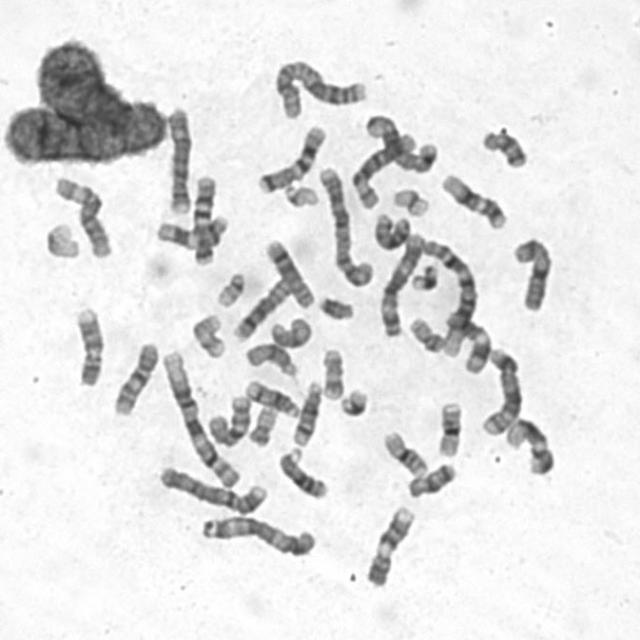A1: (154, 347, 244, 493), (420, 235, 480, 361)
A2: (263, 54, 370, 125), (316, 164, 374, 291)
A3: (197, 510, 322, 561), (376, 231, 427, 340)
B4: (157, 465, 271, 518), (162, 106, 196, 216)
B5: (364, 113, 439, 175), (476, 344, 523, 437)
C10: (108, 336, 161, 422), (205, 393, 254, 450)
C11: (442, 308, 493, 376), (154, 212, 230, 250)
C12: (438, 172, 508, 233), (503, 416, 556, 477)
C6: (349, 130, 418, 212), (53, 173, 114, 260)
C7: (257, 124, 330, 195), (192, 174, 221, 266)
C8: (228, 278, 293, 343), (262, 235, 316, 309)
C9: (364, 504, 416, 590), (65, 303, 108, 392)
D13: (276, 444, 331, 502), (373, 210, 412, 252)
D14: (288, 379, 325, 449), (240, 378, 302, 419)
D15: (242, 342, 298, 378), (267, 314, 315, 351)
E16: (376, 426, 429, 480), (434, 397, 466, 461)
E17: (188, 310, 228, 359), (320, 347, 345, 403)
E18: (479, 128, 529, 172), (407, 462, 457, 500)
F19: (40, 220, 83, 264), (390, 188, 432, 220)
F20: (407, 315, 444, 357), (246, 405, 280, 449)
G21: (407, 264, 441, 296), (336, 388, 371, 418)
G22: (213, 270, 248, 310), (282, 181, 321, 210)
X: (510, 230, 554, 314)
Y: (314, 294, 360, 325)
